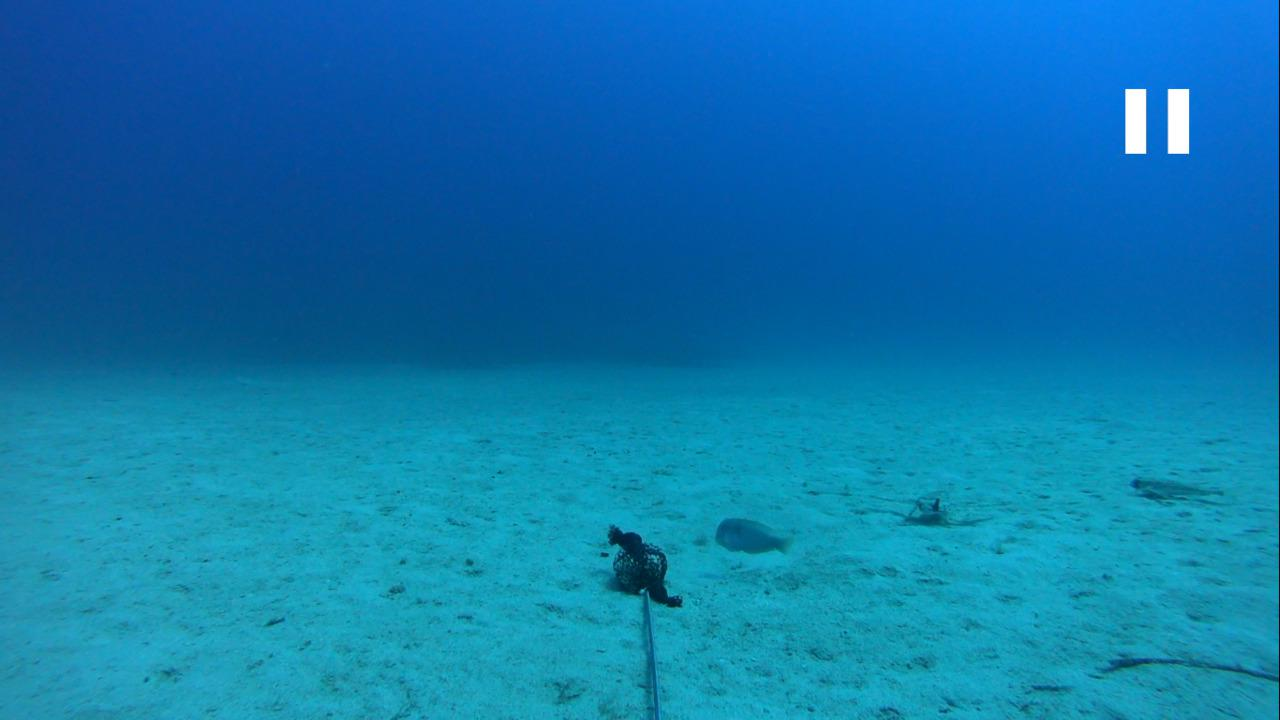dactylopterus: (1116, 468, 1236, 509), (887, 489, 962, 529)
raor: (701, 512, 803, 563)
